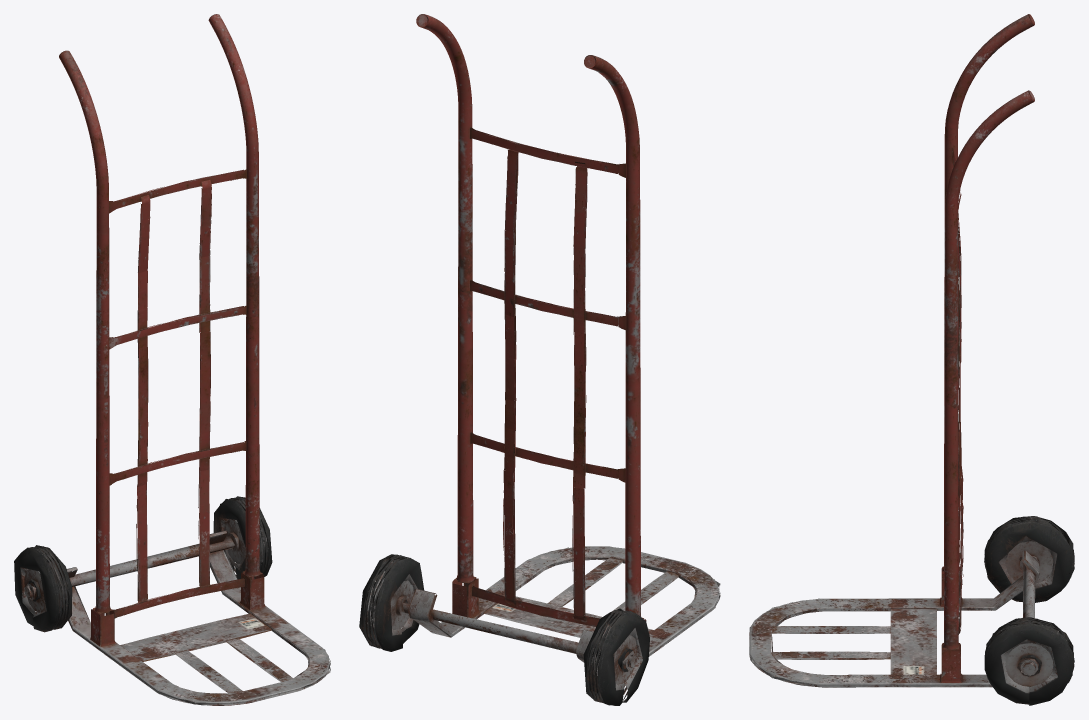
The model's file is hand_truck.glb.
3 renders of one model, left to right at view 1: azimuth 30°, elevation 25°; view 2: azimuth 150°, elevation 25°; view 3: azimuth 270°, elevation 25°, orthographic. The views are drawn at different scales.
Parts seen in each view (by area): view 1: hand_truck; view 2: hand_truck; view 3: hand_truck.
Boxes of the visible parts, x1,y1,x2,y2 form: hand_truck: [14, 14, 330, 705]; hand_truck: [359, 14, 720, 705]; hand_truck: [749, 14, 1074, 705].
Bounding box in the file's own units: 0.5933 × 1.41 × 0.6932.
Materials: 1 (1 with a texture image).
